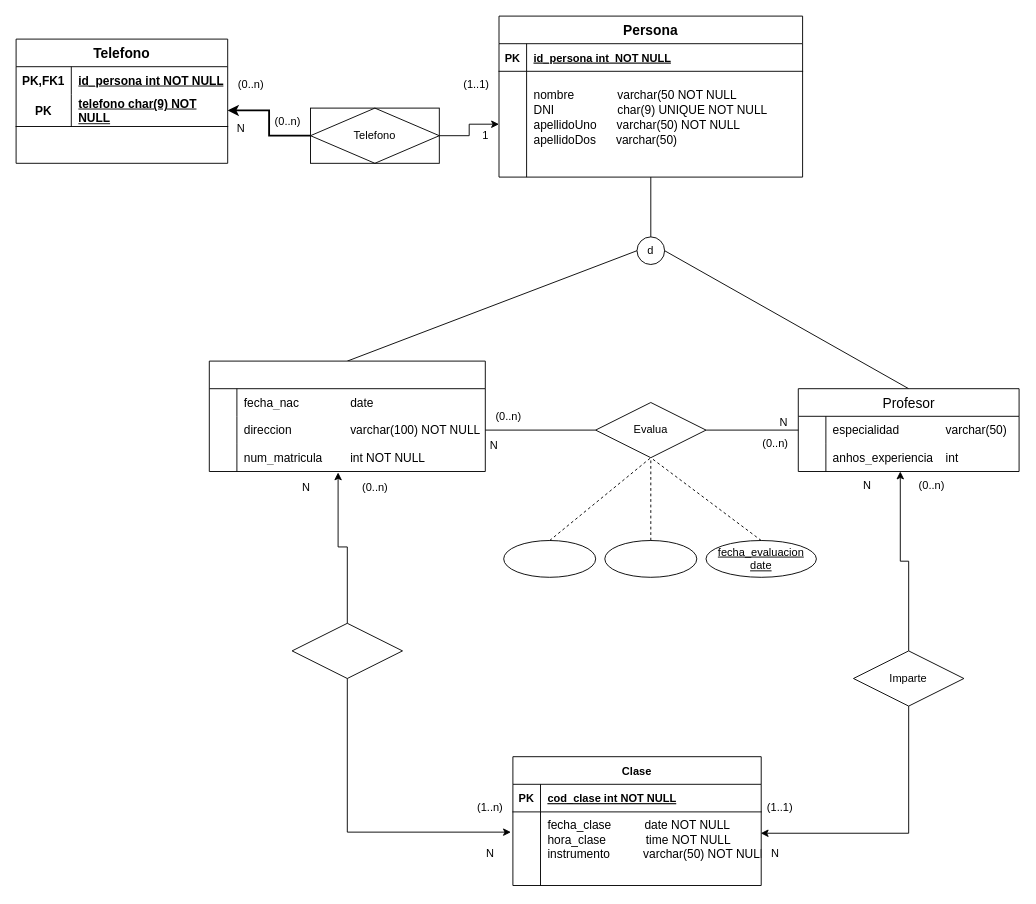
Some shapes in this 1036 by 904 pixel diagram are drawn without their labels. Here are the shapes that lost their labels. From the top down, the box of each, then its label:
(208, 360, 485, 472): Estudiante
(503, 540, 596, 577): tipo enum
(604, 540, 697, 577): nota int
(291, 622, 402, 678): Asiste
